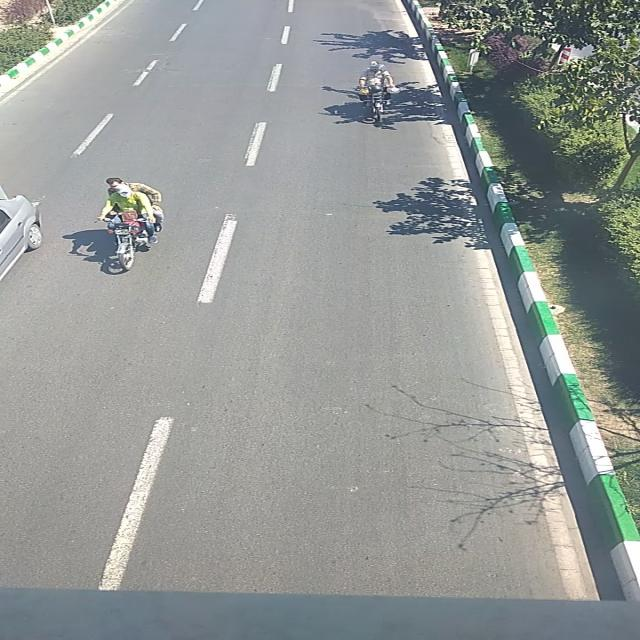car: (0, 189, 41, 291)
motor: (96, 178, 164, 274), (353, 60, 395, 124)
